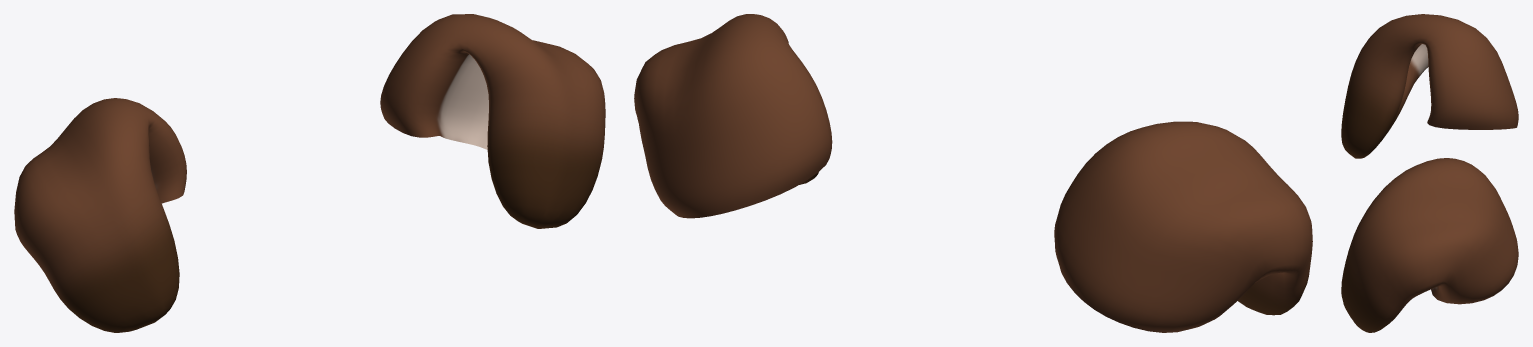
The model's file is PuppyHead.gltf.
The picture shows the model from 3 angles, left to right: view 1: azimuth 30°, elevation 25°; view 2: azimuth 150°, elevation 25°; view 3: azimuth 270°, elevation 25°; orthographic projection. The views are drawn at different scales.
Visible parts, largest first — view 1: Dog; view 2: Dog; view 3: Dog.
Part boxes in pixels (<box>): Dog: <box>14,14,605,332</box>; Dog: <box>634,14,1312,332</box>; Dog: <box>1341,14,1518,332</box>.
Size of the model in its own units: 1.97 by 0.5987 by 0.6395.
Materials: 1 (1 with a texture image).
